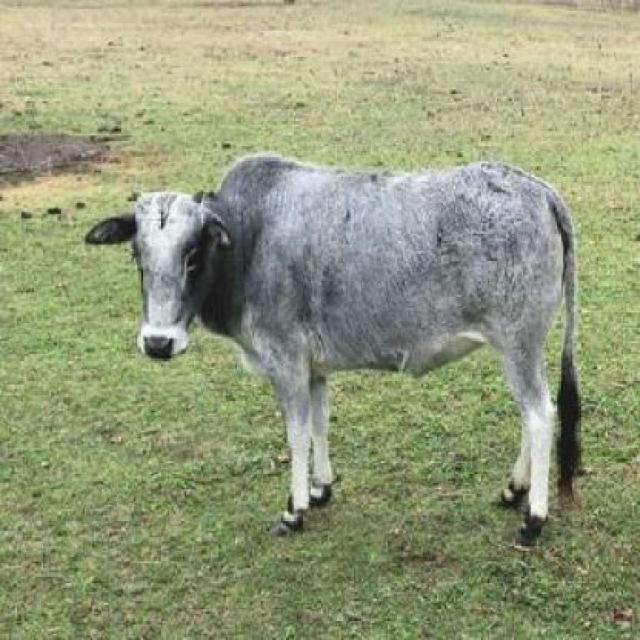Cow: (87, 149, 596, 560)
